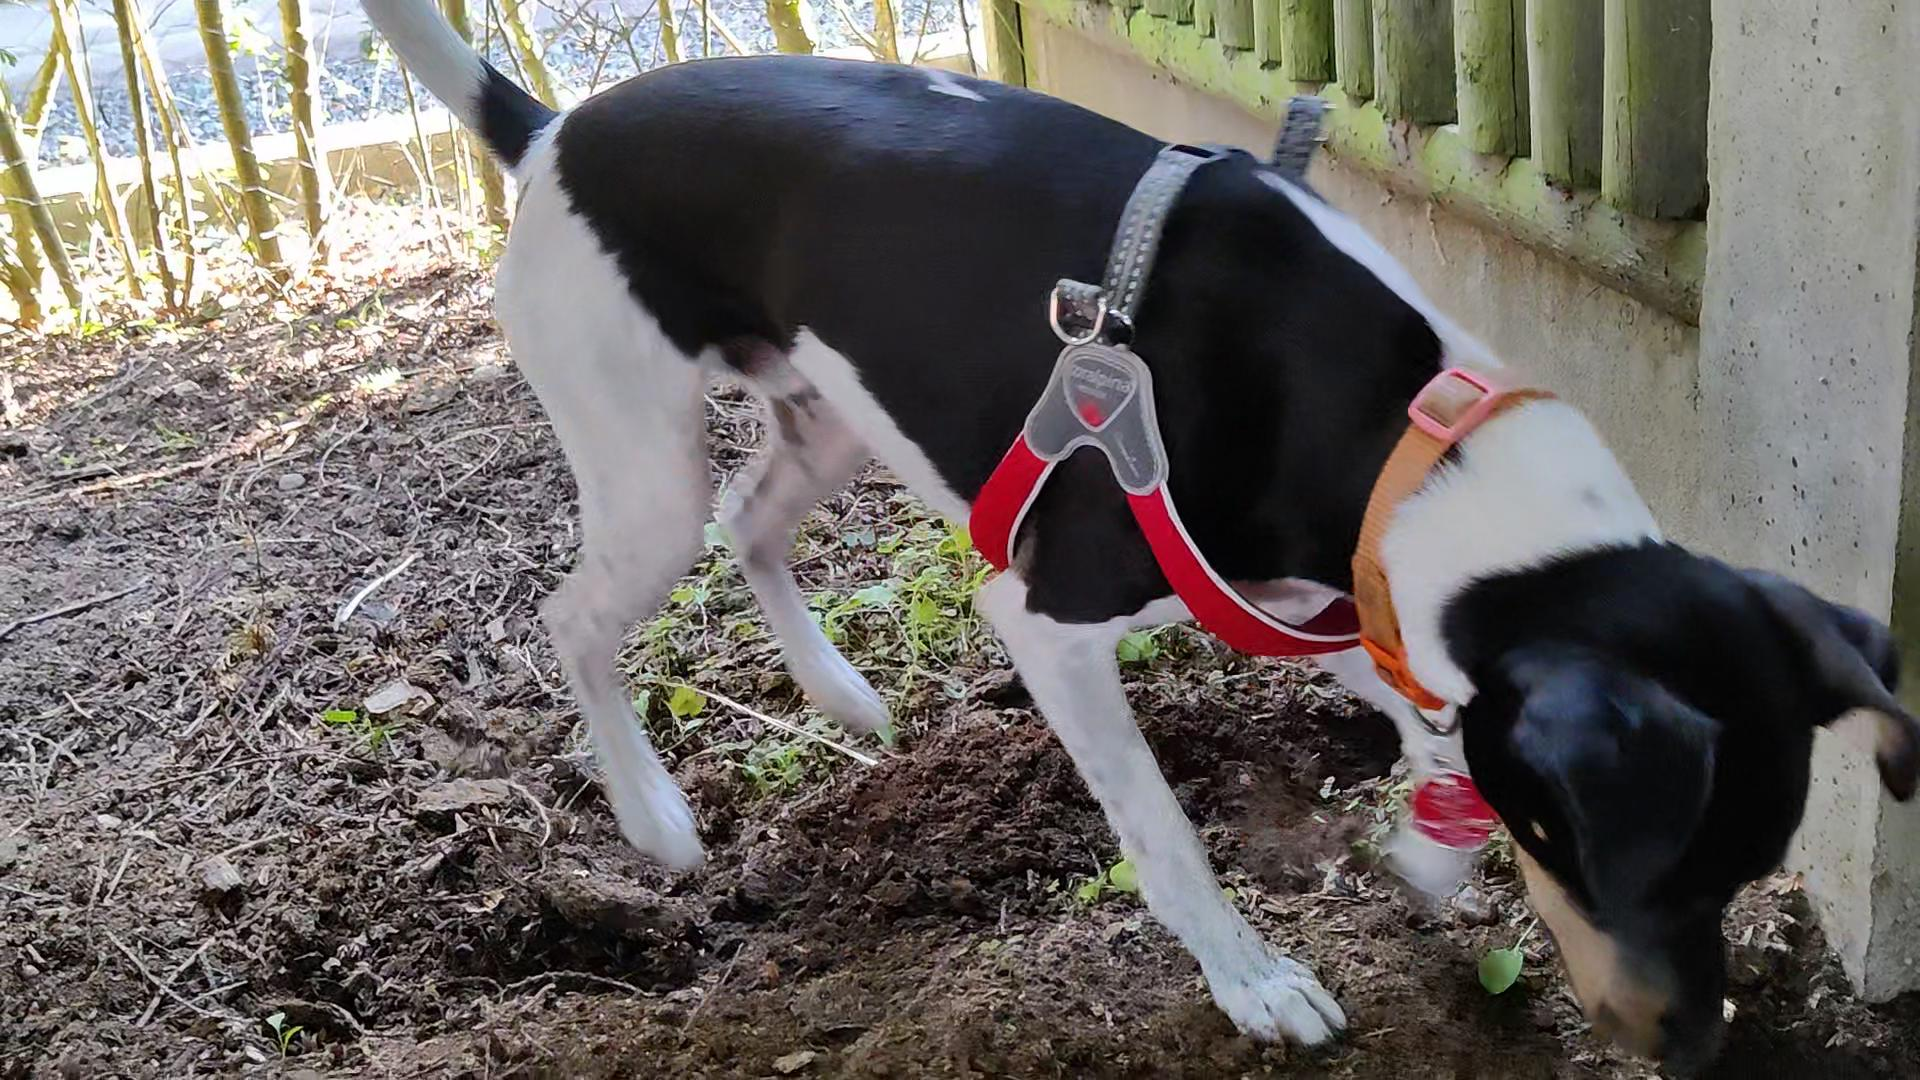Dog: (320, 0, 1919, 1073)
